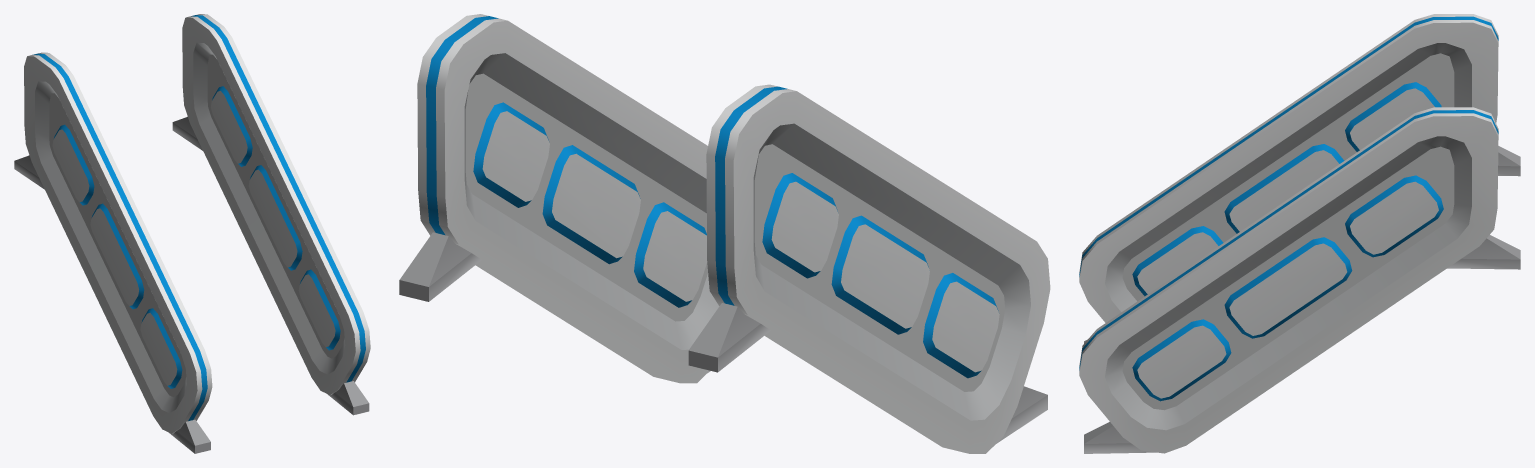
The model's file is Stair_type_A_fence_001.fbx.
The picture shows the model from 3 angles, left to right: view 1: azimuth 30°, elevation 25°; view 2: azimuth 150°, elevation 25°; view 3: azimuth 270°, elevation 25°; orthographic projection. The views are drawn at different scales.
Visible parts, largest first — view 1: Stair_type_A_fence_001; view 2: Stair_type_A_fence_001; view 3: Stair_type_A_fence_001.
Boxes of the visible parts, <box> form: Stair_type_A_fence_001: <box>14,14,370,453</box>; Stair_type_A_fence_001: <box>399,14,1050,453</box>; Stair_type_A_fence_001: <box>1079,14,1520,453</box>.
Size of the model in its own units: 179 by 326 by 275.
